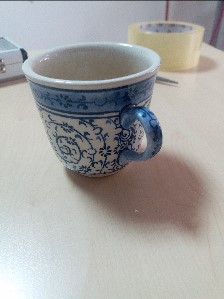cup: (21, 40, 166, 182)
